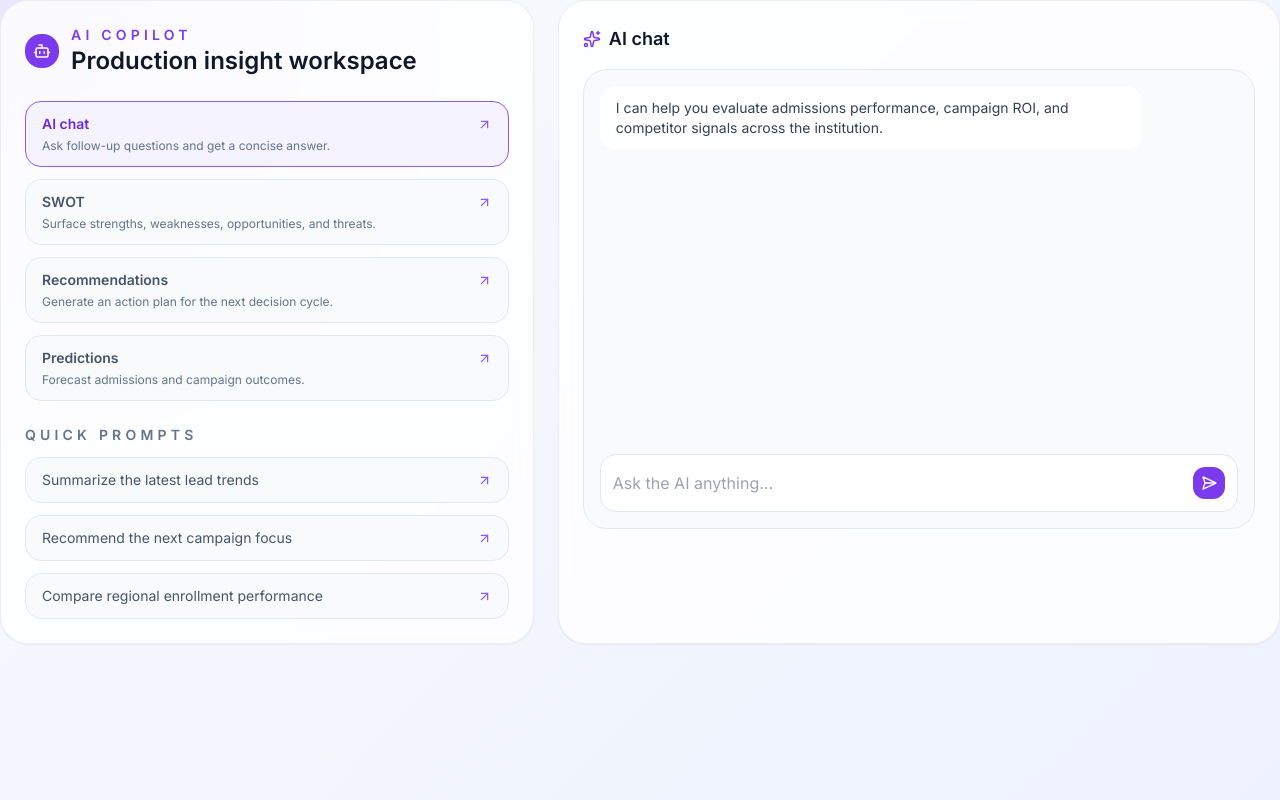
AiChat page › sends a message and renders the assistant reply
This screenshot has width=1280, height=800.
Type "Summarize enrollment performance" into the field with placeholder "Ask the AI anything...".
click(899, 483); type("Summarize enrollment performance")  # box x1=613 y1=471 x2=1185 y2=495
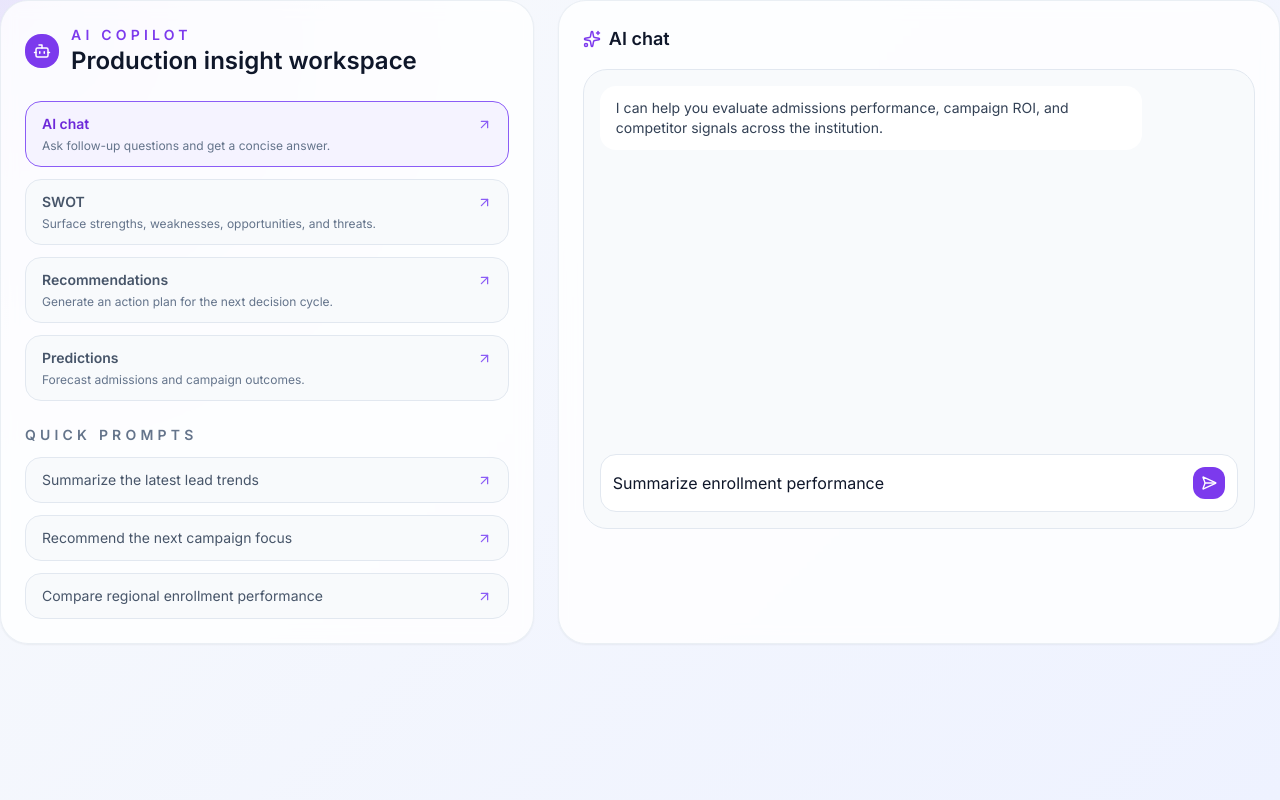
Click the button named "send message".
click(1209, 483)  # box x1=1193 y1=467 x2=1225 y2=499
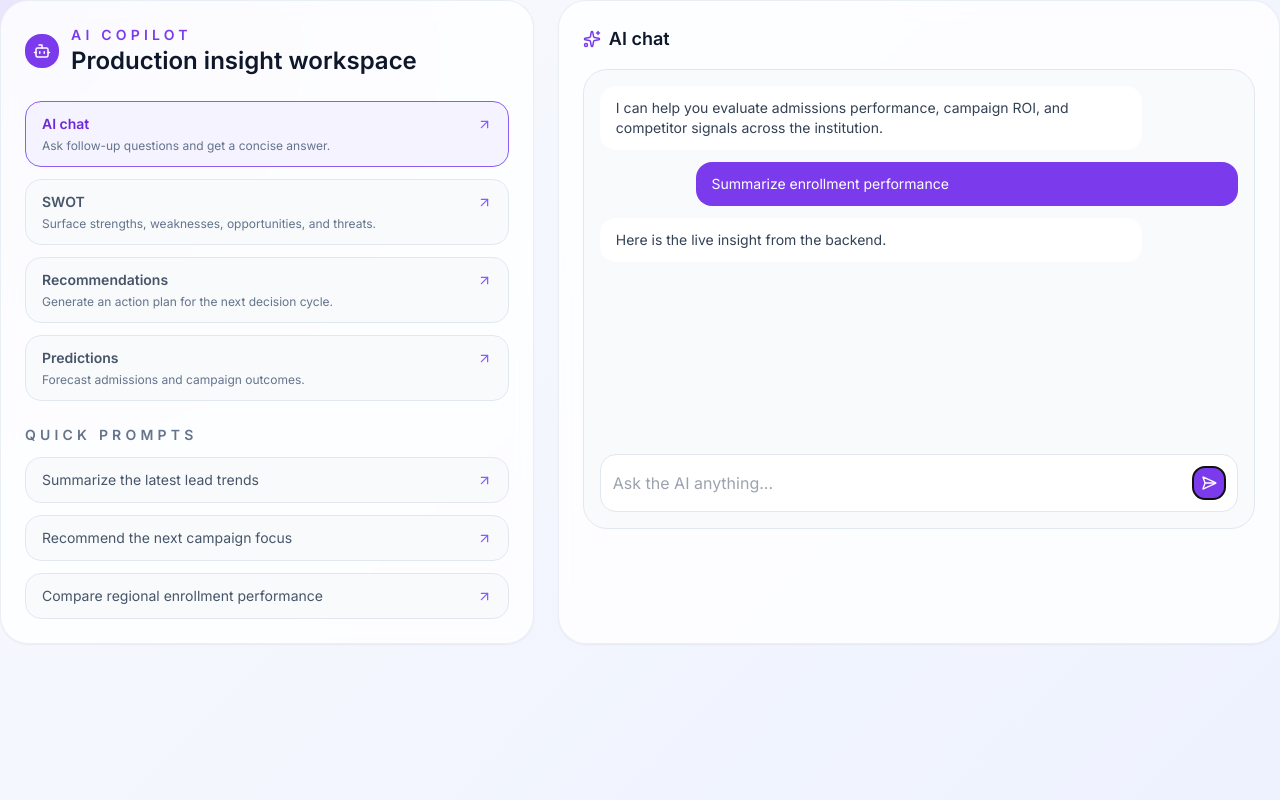
Expected: the text "Here is the live insight from the backend." is shown, x1=616 y1=231 x2=886 y2=248
